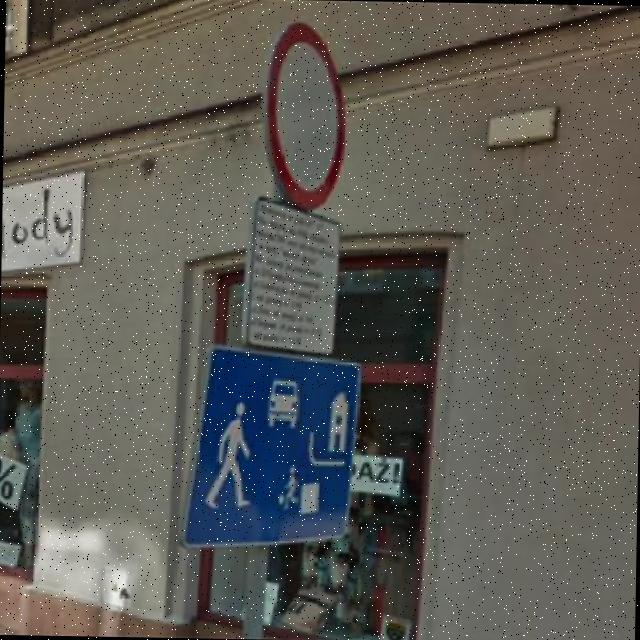Zakaz ruchu w obu kierunkach: (262, 19, 348, 212)
